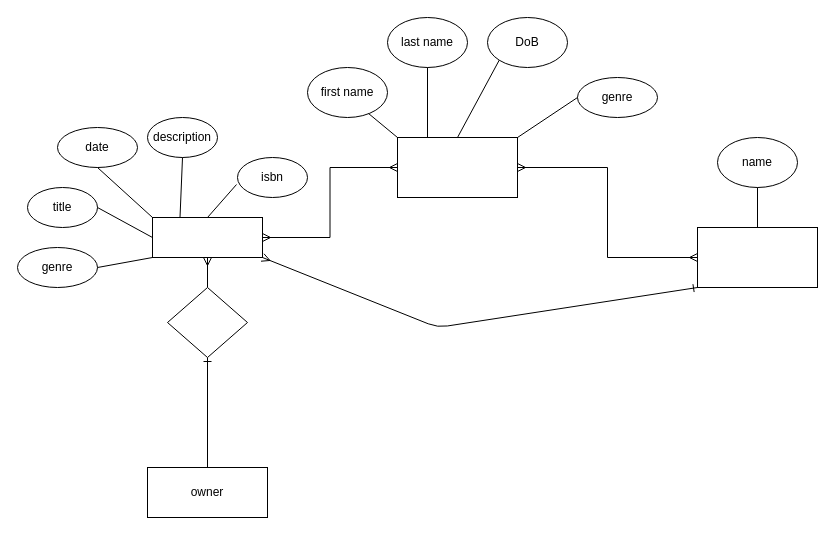
Some shapes in this 835 by 535 pixel diagram are drawn without their labels. The box of each missing label's shape, as (x1, y1, x2, y2) in pixels:
author: (396, 136, 518, 198)
books: (152, 216, 262, 258)
has/owns: (166, 286, 248, 358)
publisher: (696, 226, 818, 288)
